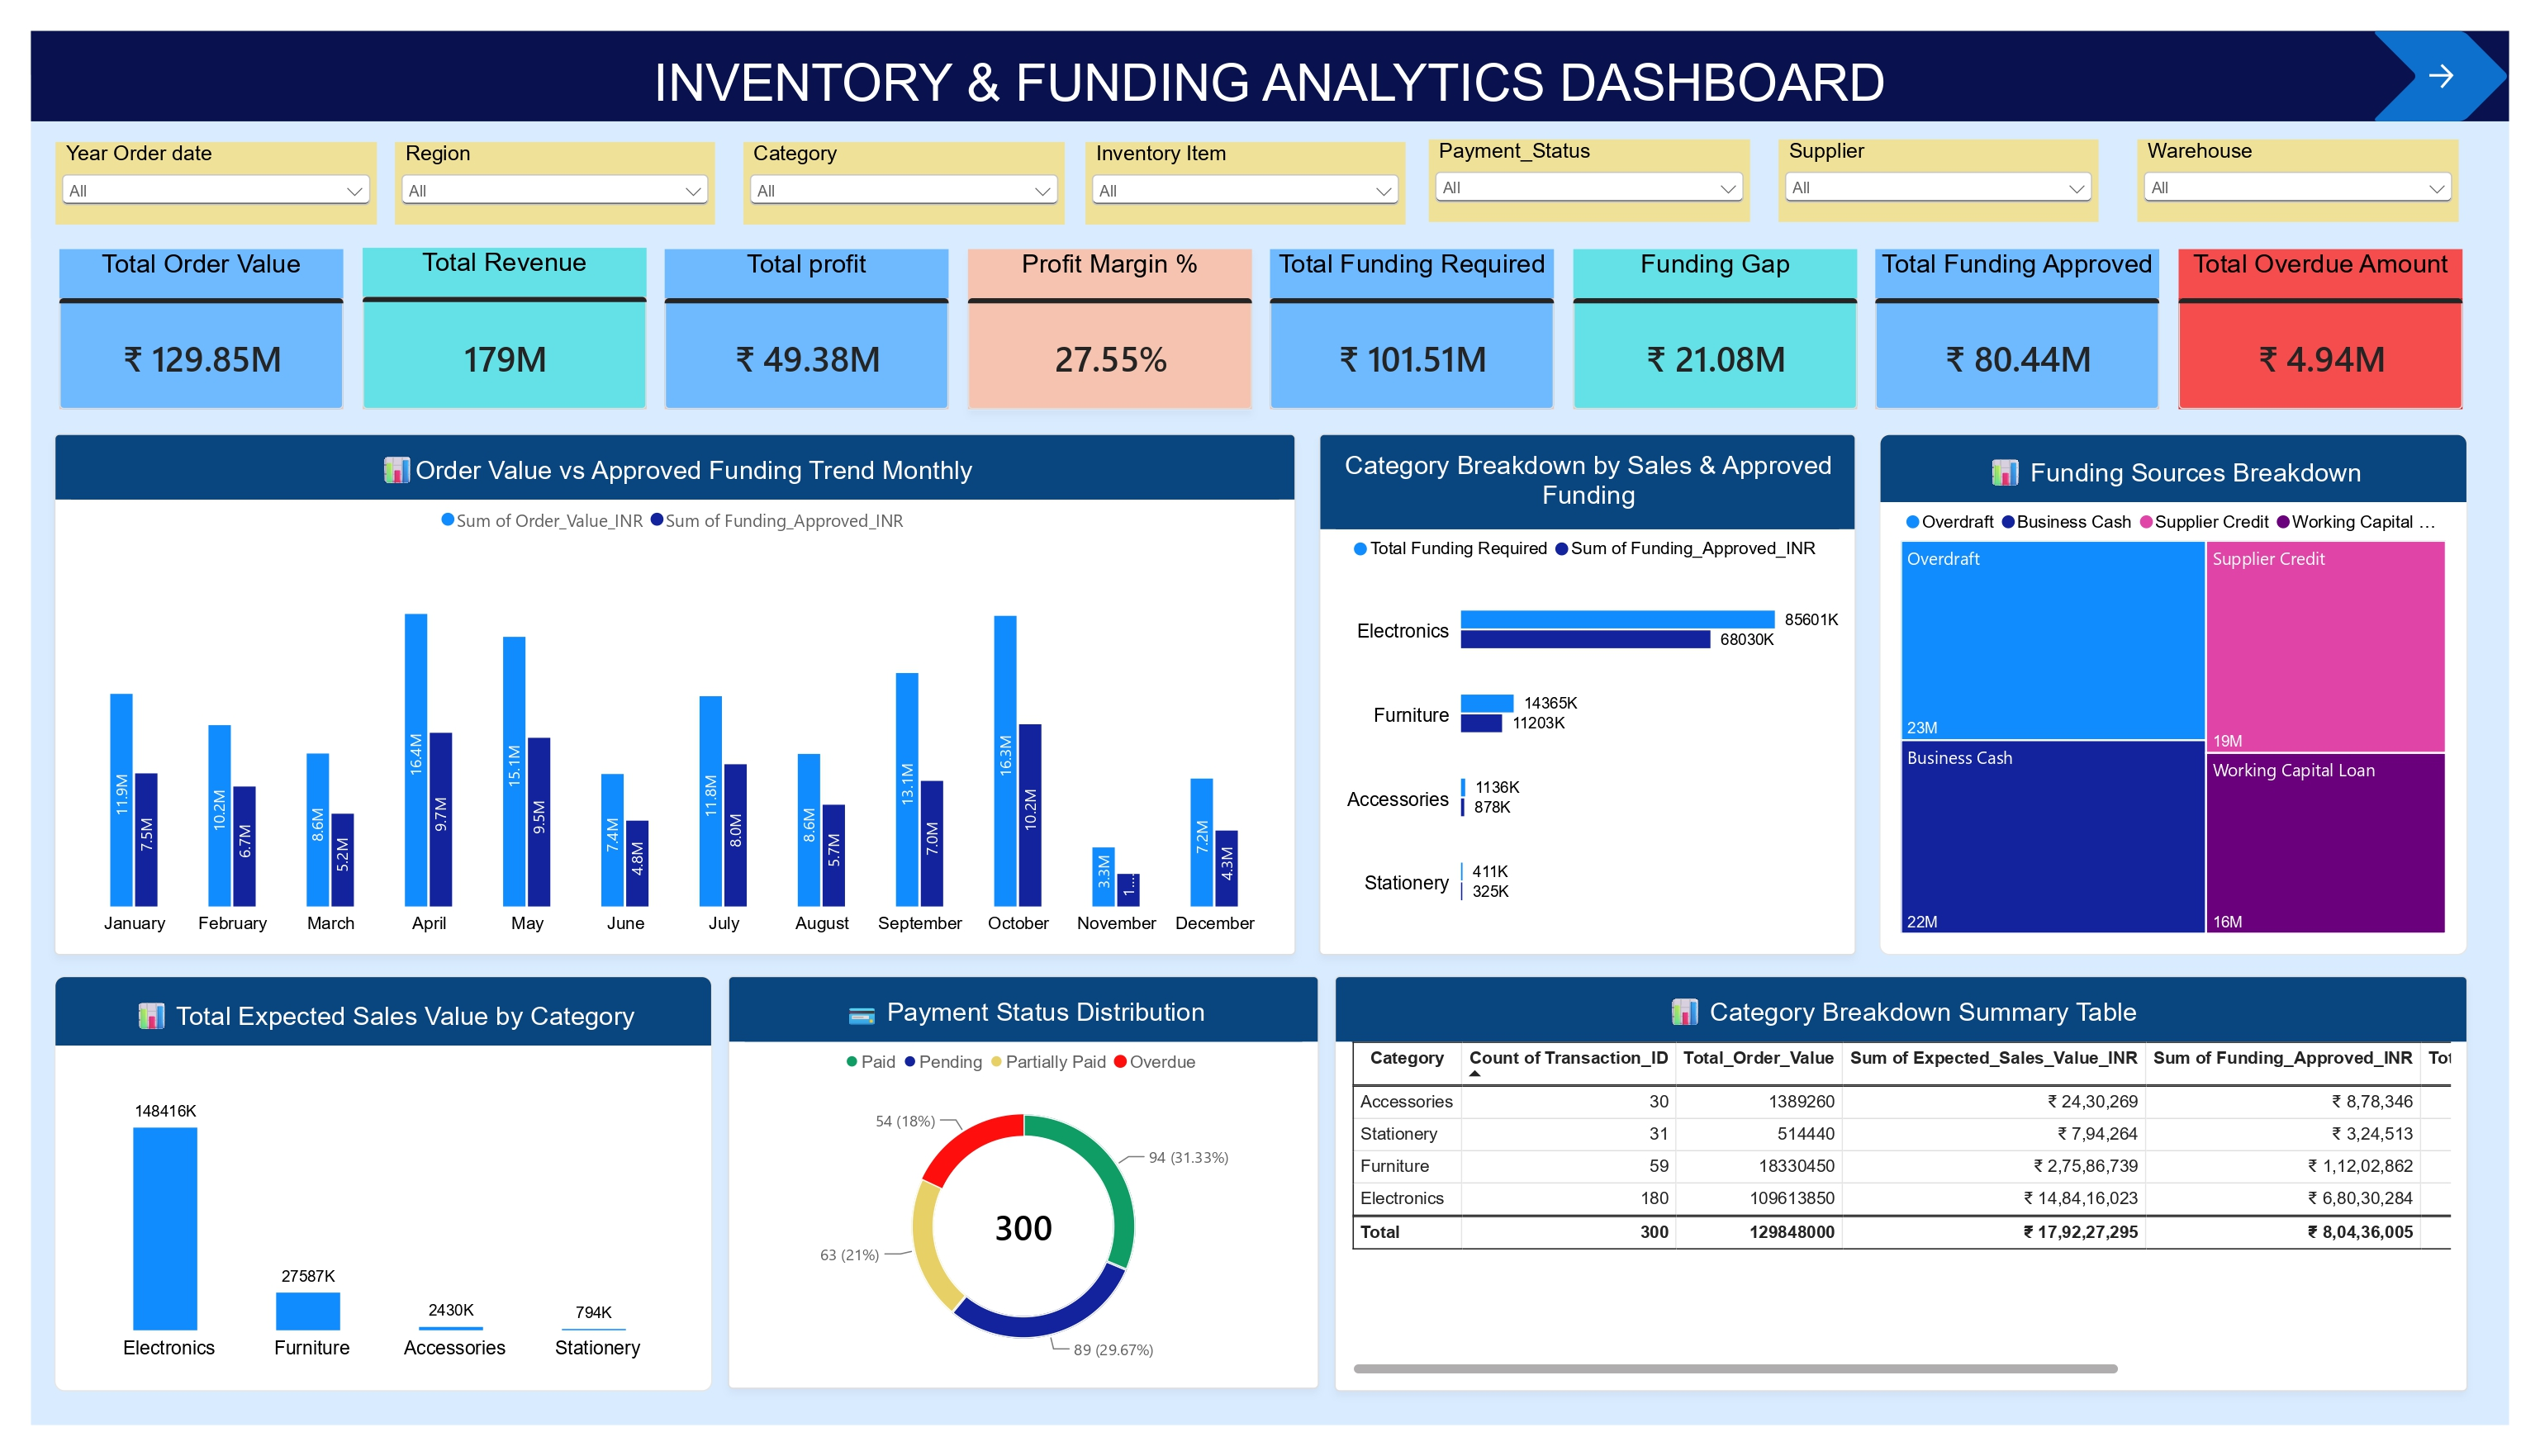

This screenshot's page, from the dashboard's own definition file:
{"tool":"powerbi","page":{"name":"IFS Dashboard Page 1","canvas":[1920,1080],"ordinal":0},"visuals":[{"type":"cardVisual","title":"Total Order Value","fields":{"Data":["Sum(inventory_funding_system_dataset.Order_Value_INR)"]},"box":[22,168.2,220,125],"z":0,"group":"g1"},{"type":"donutChart","title":"💳 Payment Status Distribution","fields":{"Category":["inventory_funding_system_dataset.Payment_Status"],"Y":["CountNonNull(inventory_funding_system_dataset.Payment_Status)"]},"box":[540,732,458,320],"z":0},{"type":"cardVisual","title":"Total Funding Required","fields":{"Data":["inventory_funding_system_dataset.Total Funding Required"]},"box":[960.3,168.2,220,125],"z":1000,"group":"g1"},{"type":"tableEx","title":"📊 Category Breakdown Summary Table","fields":{"Values":["inventory_funding_system_dataset.Category","inventory_funding_system_dataset.Transaction_ID","inventory_funding_system_dataset.Total_Order_Value","Sum(inventory_funding_system_dataset.Expected_Sales_Value_INR)","Sum(inventory_funding_system_dataset.Funding_Approved_INR)","inventory_funding_system_dataset.Total Funding Required","Sum(inventory_funding_system_dataset.Outstanding_Funding_INR)"]},"box":[1010,732,878,322],"z":1000},{"type":"cardVisual","title":"Total Funding Approved","fields":{"Data":["Sum(inventory_funding_system_dataset.Funding_Approved_INR)"]},"box":[1429.4,168.2,220,125],"z":2000,"group":"g1"},{"type":"treemap","title":"📊 Funding Sources Breakdown","fields":{"Group":["inventory_funding_system_dataset.Funding_Source"],"Values":["Sum(inventory_funding_system_dataset.Funding_Approved_INR)"]},"box":[1432,312,456,404],"z":2000},{"type":"textbox","title":"INVENTORY & FUNDING ANALYTICS DASHBOARD","box":[0,0,1920,70],"z":3000},{"type":"cardVisual","title":"Total Revenue","fields":{"Data":["inventory_funding_system_dataset.Total Revenue"]},"box":[256.6,167.7,220,126],"z":3000,"group":"g1"},{"type":"cardVisual","title":"Total profit","fields":{"Data":["inventory_funding_system_dataset.Total Profit"]},"box":[491.1,168.2,220,125],"z":4000,"group":"g1"},{"type":"columnChart","title":"📊 Total Expected Sales Value  by Category","fields":{"Category":["inventory_funding_system_dataset.Category"],"Y":["Sum(inventory_funding_system_dataset.Expected_Sales_Value_INR)"]},"box":[18,732,510,322],"z":4000},{"type":"group","id":"g1","title":"Group 1","box":[22,167.7,1862,126],"z":5000},{"type":"cardVisual","title":"Profit Margin %","fields":{"Data":["inventory_funding_system_dataset.Profit Margin %"]},"box":[725.7,168.2,220,125],"z":5000,"group":"g1"},{"type":"group","id":"g2","title":"Group 2","box":[19,84,1862,66],"z":6000},{"type":"cardVisual","title":"Funding Gap","fields":{"Data":["inventory_funding_system_dataset.Funding Gap"]},"box":[1194.9,168.2,220,125],"z":6000,"group":"g1"},{"type":"cardVisual","title":"Total Overdue Amount","fields":{"Data":["inventory_funding_system_dataset.Total Overdue Amount"]},"box":[1664,168.2,220,125],"z":7000,"group":"g1"},{"type":"clusteredColumnChart","title":"📊Order Value vs Approved Funding Trend Monthly","fields":{"Category":["inventory_funding_system_dataset.Order_Date.Variation.Date Hierarchy.Month"],"Y":["Sum(inventory_funding_system_dataset.Order_Value_INR)","Sum(inventory_funding_system_dataset.Funding_Approved_INR)"]},"box":[18,312,962,404],"z":7000},{"type":"clusteredBarChart","title":"Category Breakdown by Sales & Approved Funding","fields":{"Category":["inventory_funding_system_dataset.Category"],"Y":["inventory_funding_system_dataset.Total Funding Required","Sum(inventory_funding_system_dataset.Funding_Approved_INR)"]},"box":[998,312,416,404],"z":8000},{"type":"actionButton","box":[1814,0,106,70],"z":9000},{"type":"slicer","fields":{"Values":["inventory_funding_system_dataset.Region"]},"box":[281.6,85.8,248.7,64.2],"z":9000,"group":"g2"},{"type":"slicer","fields":{"Values":["inventory_funding_system_dataset.Category"]},"box":[552.1,85.8,248.7,64.2],"z":12000,"group":"g2"},{"type":"slicer","fields":{"Values":["inventory_funding_system_dataset.Product_Name"]},"box":[816.7,85.8,248.7,64.2],"z":13000,"group":"g2"},{"type":"slicer","fields":{"Values":["inventory_funding_system_dataset.Payment_Status"]},"box":[1083.3,84,248.7,64.2],"z":14000,"group":"g2"},{"type":"slicer","fields":{"Values":["inventory_funding_system_dataset.Supplier"]},"box":[1353.8,84,248.7,64.2],"z":15000,"group":"g2"},{"type":"slicer","fields":{"Values":["inventory_funding_system_dataset.Warehouse"]},"box":[1632.3,84,248.7,64.2],"z":16000,"group":"g2"},{"type":"slicer","fields":{"Values":["inventory_funding_system_dataset.Order_Date.Variation.Date Hierarchy.Year","inventory_funding_system_dataset.Order_Date.Variation.Date Hierarchy.Quarter","inventory_funding_system_dataset.Order_Date.Variation.Date Hierarchy.Month","inventory_funding_system_dataset.Order_Date.Variation.Date Hierarchy.Day"]},"box":[19,85.8,248.7,64.2],"z":19000,"group":"g2"}]}

Visuals, with their boxes on the page's 1920x1080 design canvas (x1, y1, x2, y2). These are canvas units, not pixel positions in the 2540x1456 screenshot, which may show the page scaled, cropped or inside an application window:
"Total Order Value" cardVisual: x1=22 y1=168 x2=242 y2=293
"💳 Payment Status Distribution" donutChart: x1=540 y1=732 x2=998 y2=1052
"Total Funding Required" cardVisual: x1=960 y1=168 x2=1180 y2=293
"📊 Category Breakdown Summary Table" tableEx: x1=1010 y1=732 x2=1888 y2=1054
"Total Funding Approved" cardVisual: x1=1429 y1=168 x2=1649 y2=293
"📊 Funding Sources Breakdown" treemap: x1=1432 y1=312 x2=1888 y2=716
"INVENTORY & FUNDING ANALYTICS DASHBOARD" textbox: x1=0 y1=0 x2=1920 y2=70
"Total Revenue" cardVisual: x1=257 y1=168 x2=477 y2=294
"Total profit" cardVisual: x1=491 y1=168 x2=711 y2=293
"📊 Total Expected Sales Value  by Category" columnChart: x1=18 y1=732 x2=528 y2=1054
"Group 1" group: x1=22 y1=168 x2=1884 y2=294
"Profit Margin %" cardVisual: x1=726 y1=168 x2=946 y2=293
"Group 2" group: x1=19 y1=84 x2=1881 y2=150
"Funding Gap" cardVisual: x1=1195 y1=168 x2=1415 y2=293
"Total Overdue Amount" cardVisual: x1=1664 y1=168 x2=1884 y2=293
"📊Order Value vs Approved Funding Trend Monthly" clusteredColumnChart: x1=18 y1=312 x2=980 y2=716
"Category Breakdown by Sales & Approved Funding" clusteredBarChart: x1=998 y1=312 x2=1414 y2=716
actionButton: x1=1814 y1=0 x2=1920 y2=70
slicer - inventory_funding_system_dataset.Region: x1=282 y1=86 x2=530 y2=150
slicer - inventory_funding_system_dataset.Category: x1=552 y1=86 x2=801 y2=150
slicer - inventory_funding_system_dataset.Product_Name: x1=817 y1=86 x2=1065 y2=150
slicer - inventory_funding_system_dataset.Payment_Status: x1=1083 y1=84 x2=1332 y2=148
slicer - inventory_funding_system_dataset.Supplier: x1=1354 y1=84 x2=1602 y2=148
slicer - inventory_funding_system_dataset.Warehouse: x1=1632 y1=84 x2=1881 y2=148
slicer - inventory_funding_system_dataset.Order_Date.Variation.Date Hierarchy.Year x inventory_funding_system_dataset.Order_Date.Variation.Date Hierarchy.Quarter: x1=19 y1=86 x2=268 y2=150
